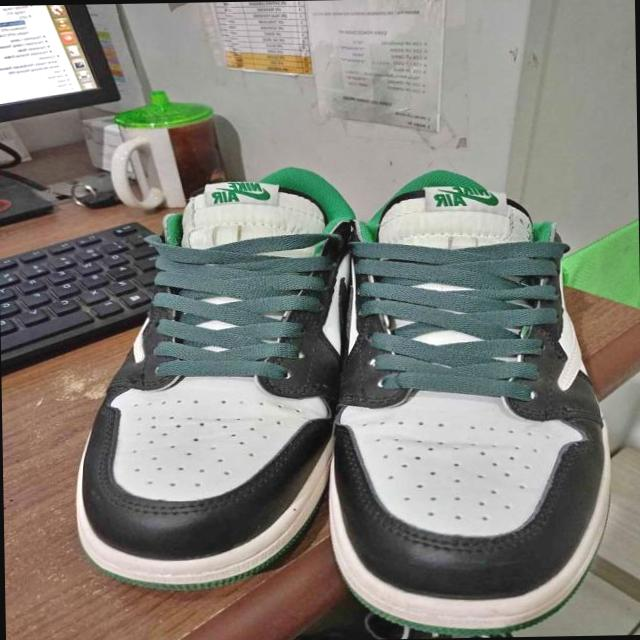nike_fake_jordan: (321, 164, 640, 639), (66, 159, 364, 592)
